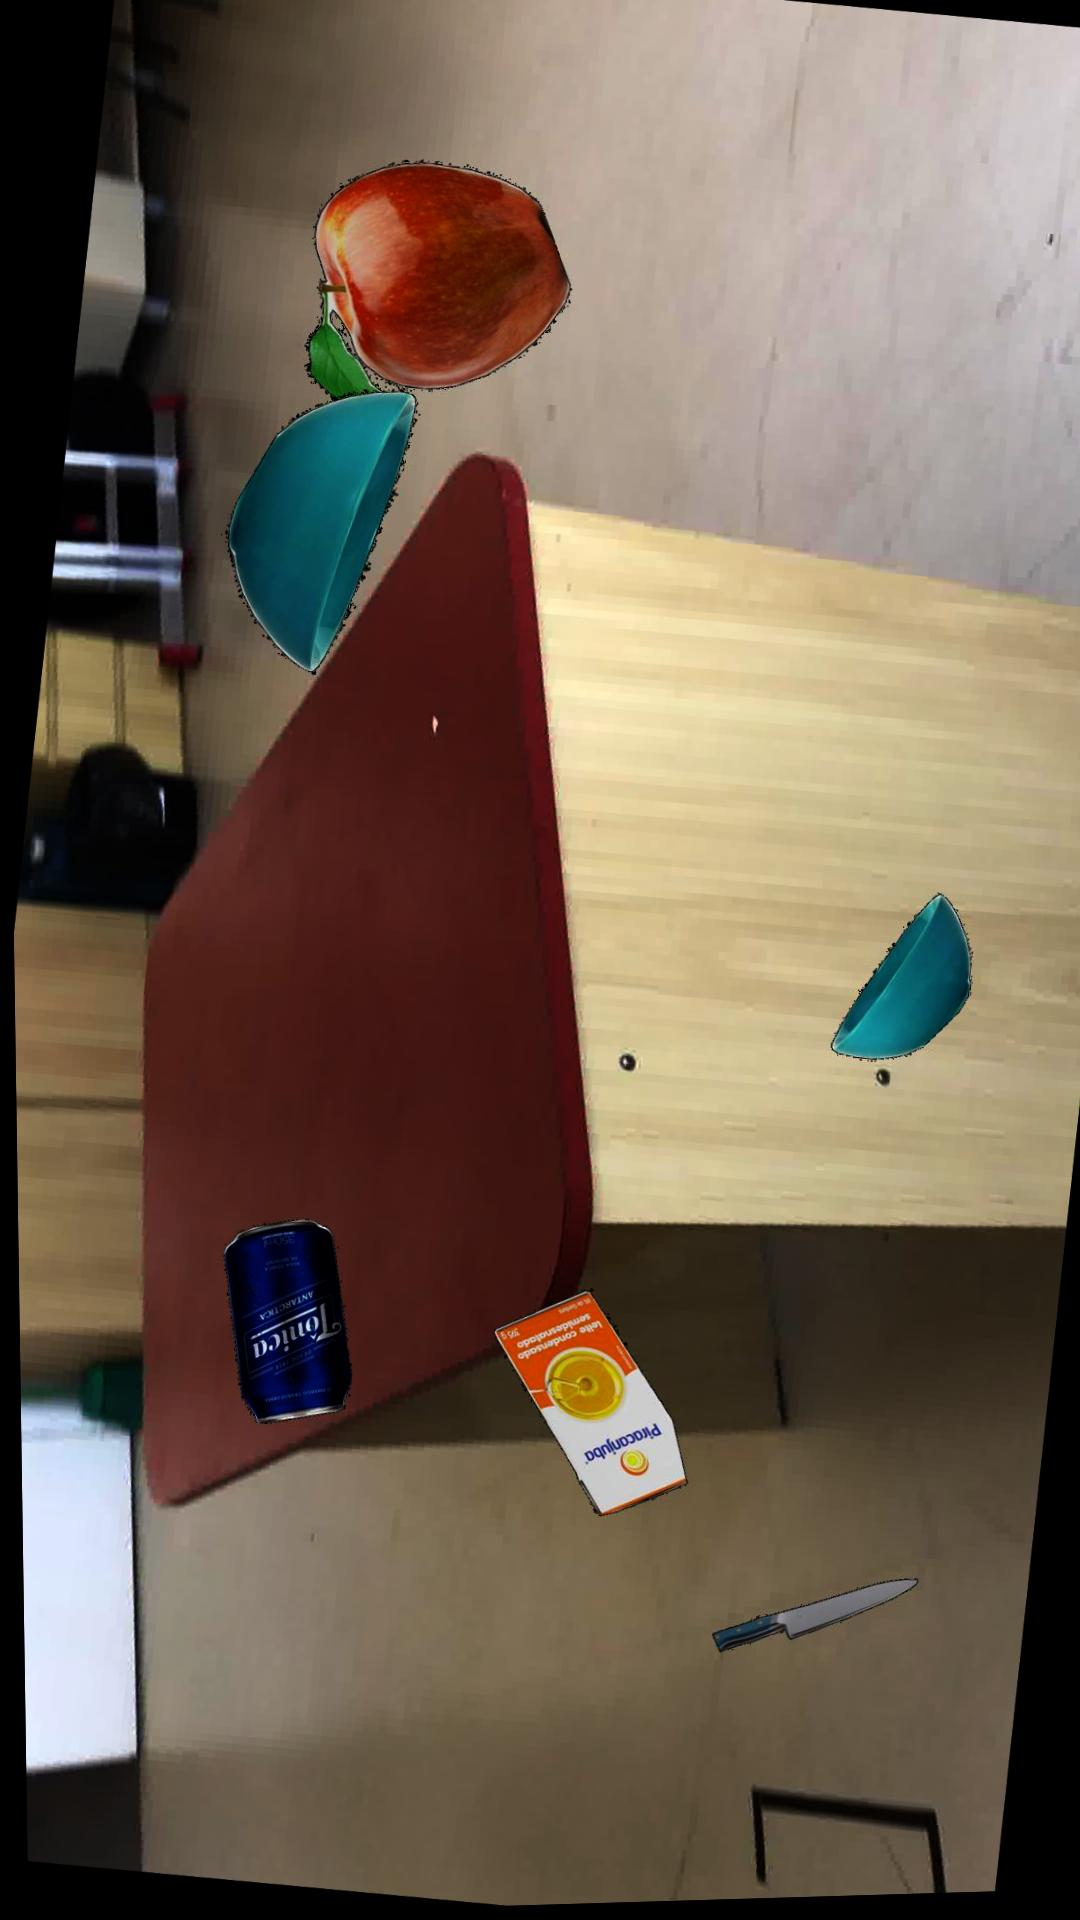apple: (305, 162, 572, 401)
bowl: (227, 389, 417, 675), (828, 898, 969, 1064)
knife: (708, 1582, 914, 1655)
tonic: (222, 1220, 348, 1423)
